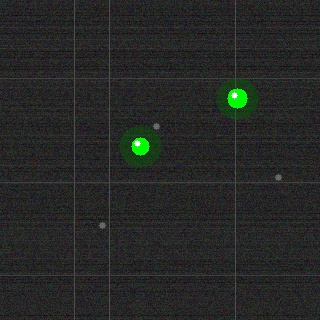green_normal: (225, 86, 249, 110), (129, 135, 151, 157)
